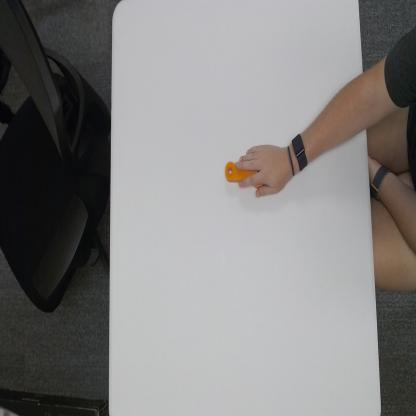Arm: (312, 53, 373, 164)
Hand: (238, 134, 289, 202)
Screwdriver: (224, 158, 251, 186)
